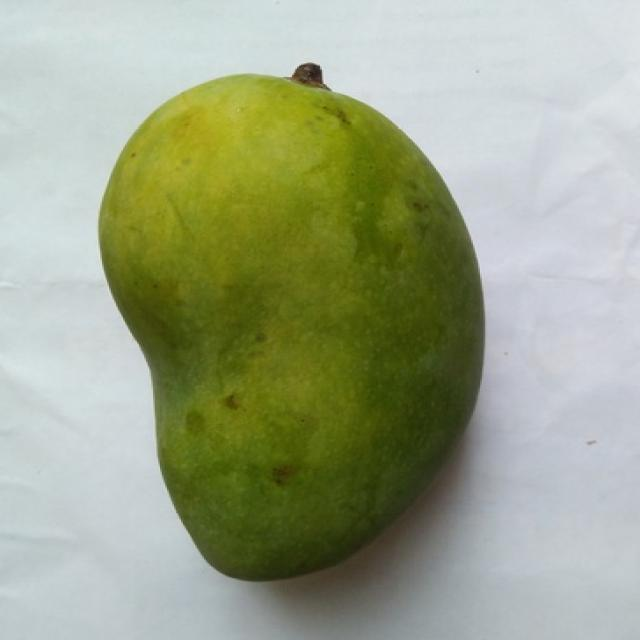Mango: (100, 67, 482, 579)
